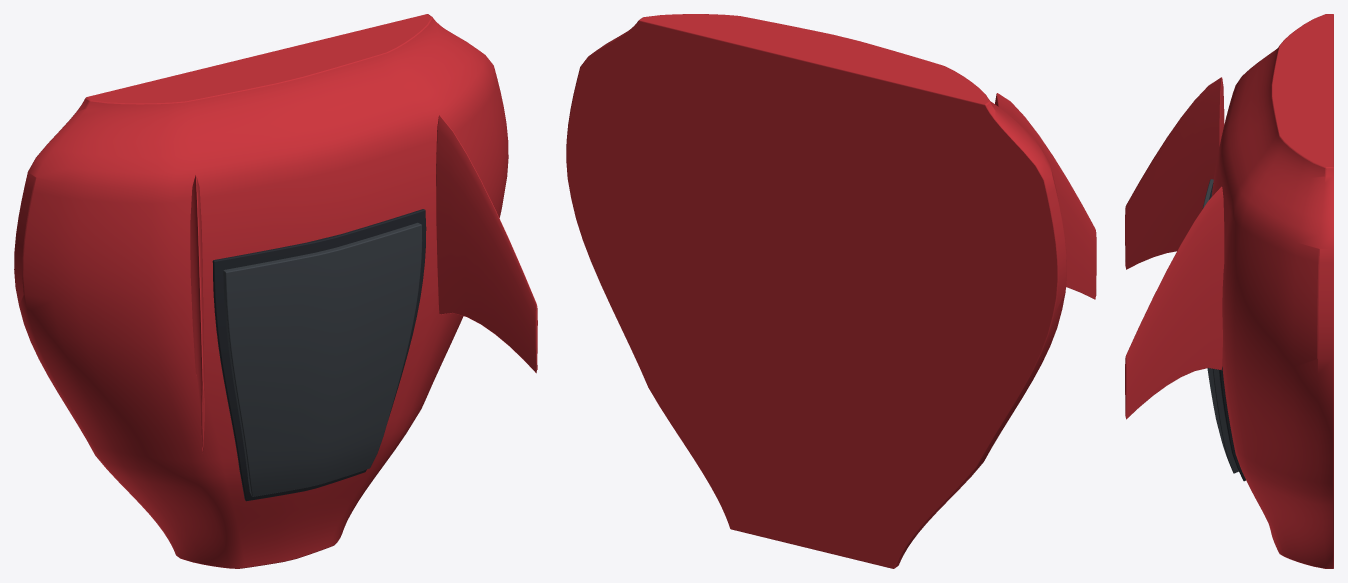
The model's file is HeadBack_Set01_Ironclad.fbx.
3 renders of one model, left to right at view 1: azimuth 30°, elevation 25°; view 2: azimuth 150°, elevation 25°; view 3: azimuth 270°, elevation 25°, orthographic. The views are drawn at different scales.
Parts seen in each view (by area): view 1: HeadBack_Set01_Ironclad; view 2: HeadBack_Set01_Ironclad; view 3: HeadBack_Set01_Ironclad.
Boxes of the visible parts, box(x1,y1,x2,y2) form: HeadBack_Set01_Ironclad: box(14, 14, 537, 568); HeadBack_Set01_Ironclad: box(566, 14, 1096, 568); HeadBack_Set01_Ironclad: box(1125, 14, 1333, 568).
Bounding box in the file's own units: 0.5715 × 0.54 × 0.2313.
